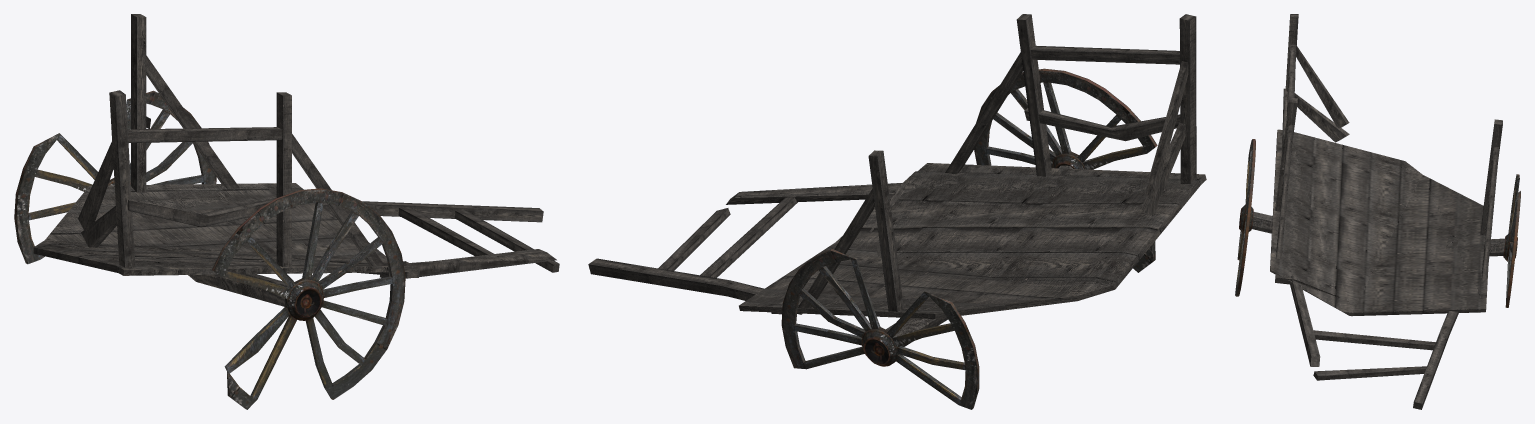
Rendered from v3_haywagon.dae.
3 renders of one model, left to right at view 1: azimuth 30°, elevation 25°; view 2: azimuth 150°, elevation 25°; view 3: azimuth 270°, elevation 25°, orthographic. The views are drawn at different scales.
Parts seen in each view (by area): view 1: Haywagon_haywagon_D_tga; view 2: Haywagon_haywagon_D_tga; view 3: Haywagon_haywagon_D_tga.
Boxes of the visible parts, left/top/right/bottom form: Haywagon_haywagon_D_tga: left=14, top=14, right=559, bottom=409; Haywagon_haywagon_D_tga: left=588, top=14, right=1206, bottom=409; Haywagon_haywagon_D_tga: left=1235, top=14, right=1520, bottom=409.
Size of the model in its own units: 2.79 by 1.63 by 1.91.
